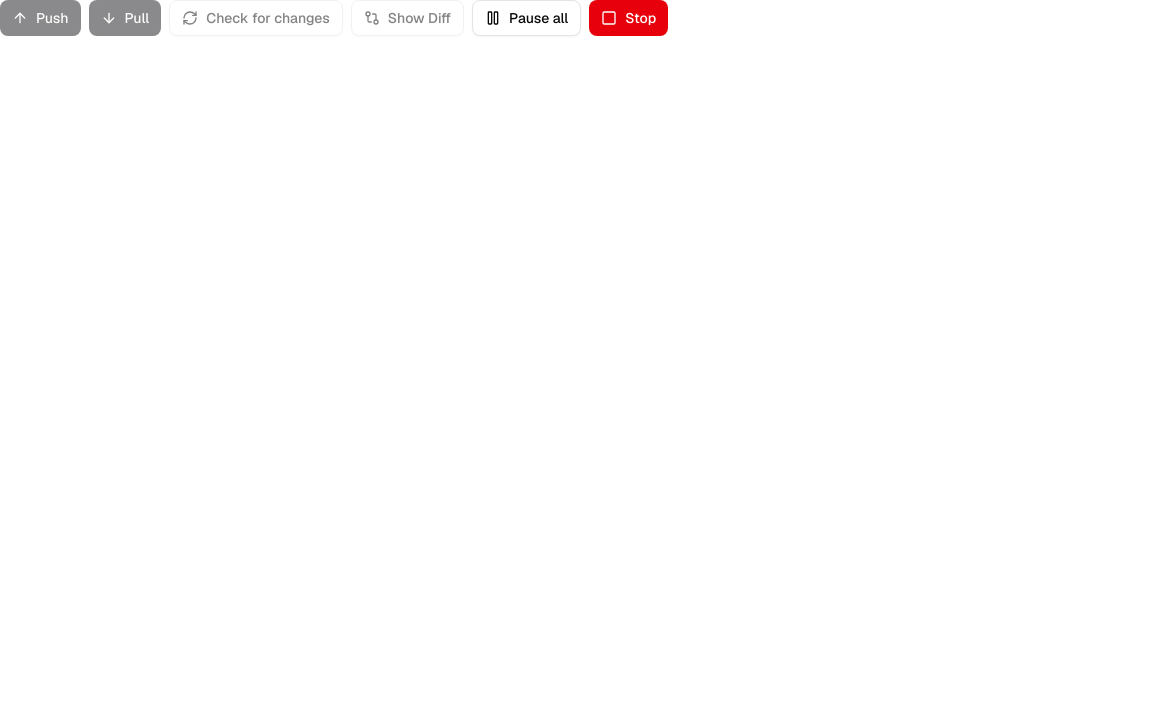
Test: SyncControls while a profile syncs › disables push and pull and stops only the running profiles
This screenshot has width=1152, height=720.
Expected: the button "Push" is disabled, [0,0,80,36]
Expected: the button "Pull" is disabled, [88,0,161,36]
Click the button "Stop" at (629, 18), box [589,0,668,36]
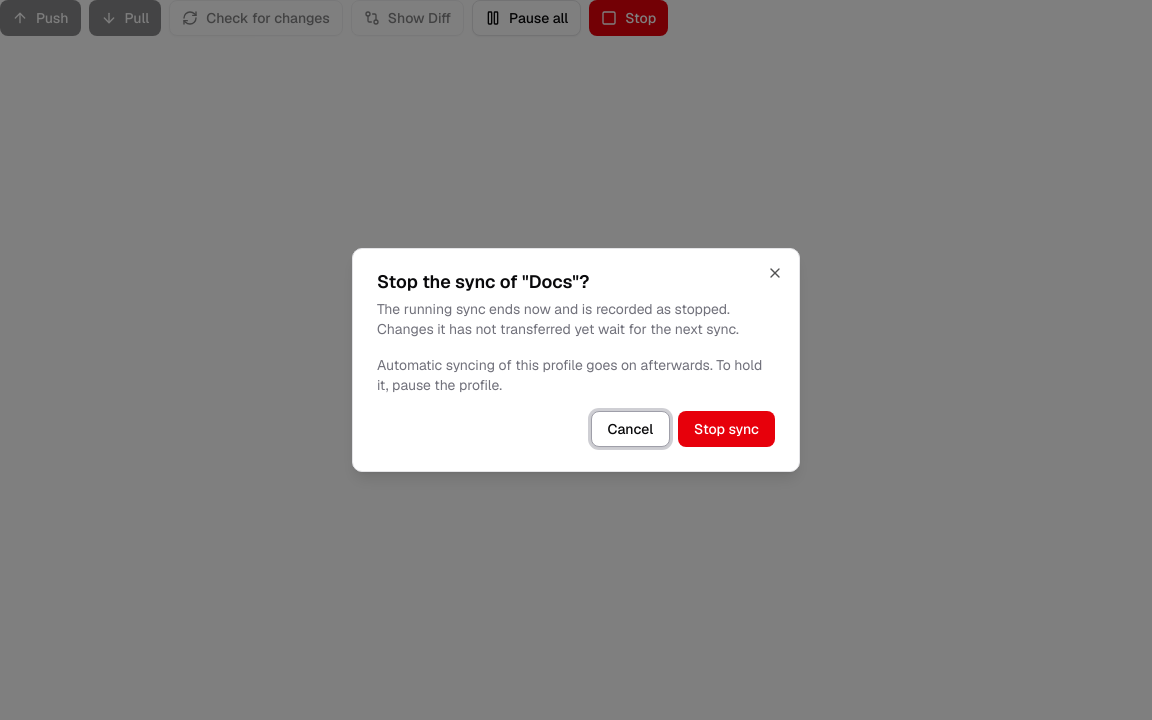
Click the button "Stop sync" at (727, 429), box [678,411,775,447]
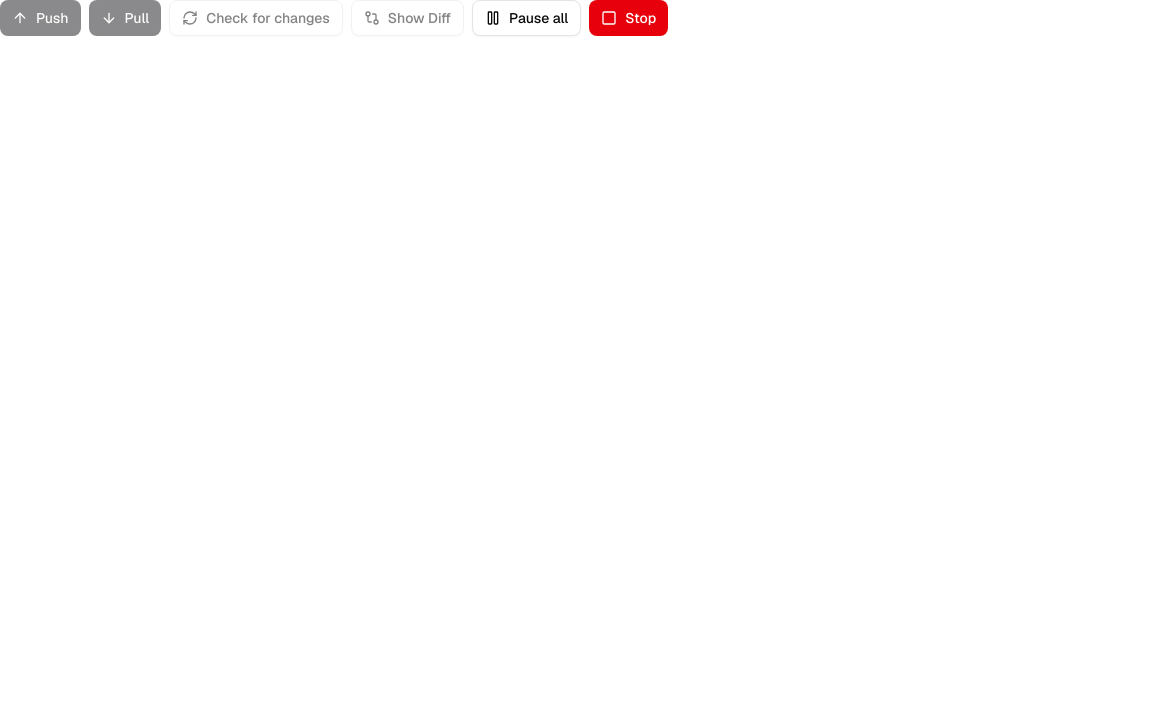
Expected: the button "Stop" is enabled, [589,0,668,36]
Expected: the dialog is gone
